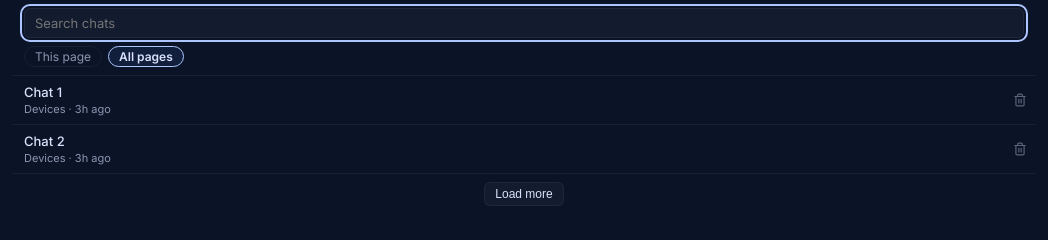
Test: AiChatHistory paging › loads the next page on request, appends it and drops duplicates
expect the button with test id "ai-chat-history-item-1" is shown: met, box [12,76,1004,124]
Click the button with test id "ai-chat-history-more": {"x": 524, "y": 194} [484,182,564,206]
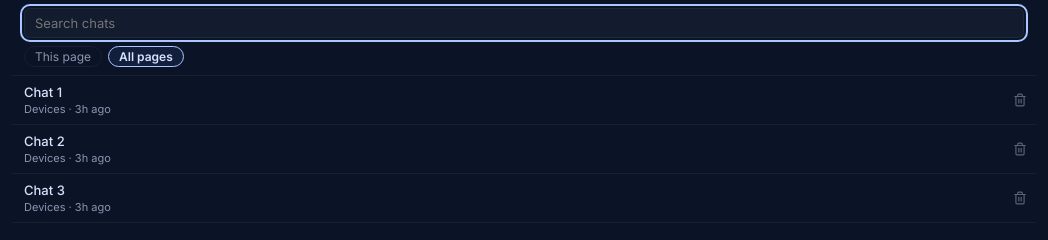
expect the button with test id "ai-chat-history-item-3" is shown: met, box [12,174,1004,222]
expect the button with test id "ai-chat-history-more" is gone: met
